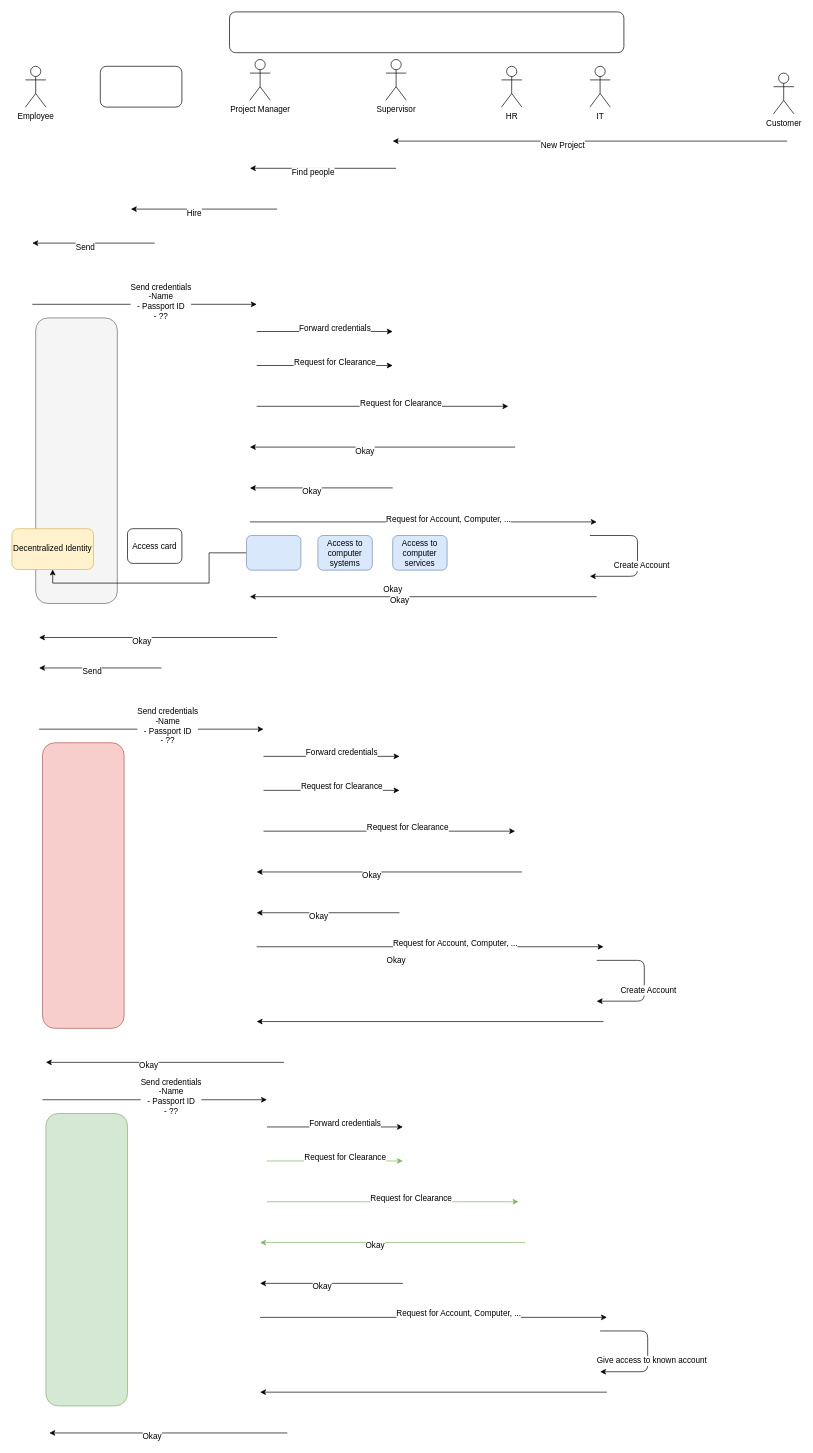
The diagram is 813 pixels wide and 1453 high, and some of its shapes have lost their labels. The centre of each missing label's shape, as x and y in pixels:
"Access to the office building / site" goes at point 273,552.
"Big Coperation" goes at point 426,32.
"External Contractor" goes at point 141,86.
